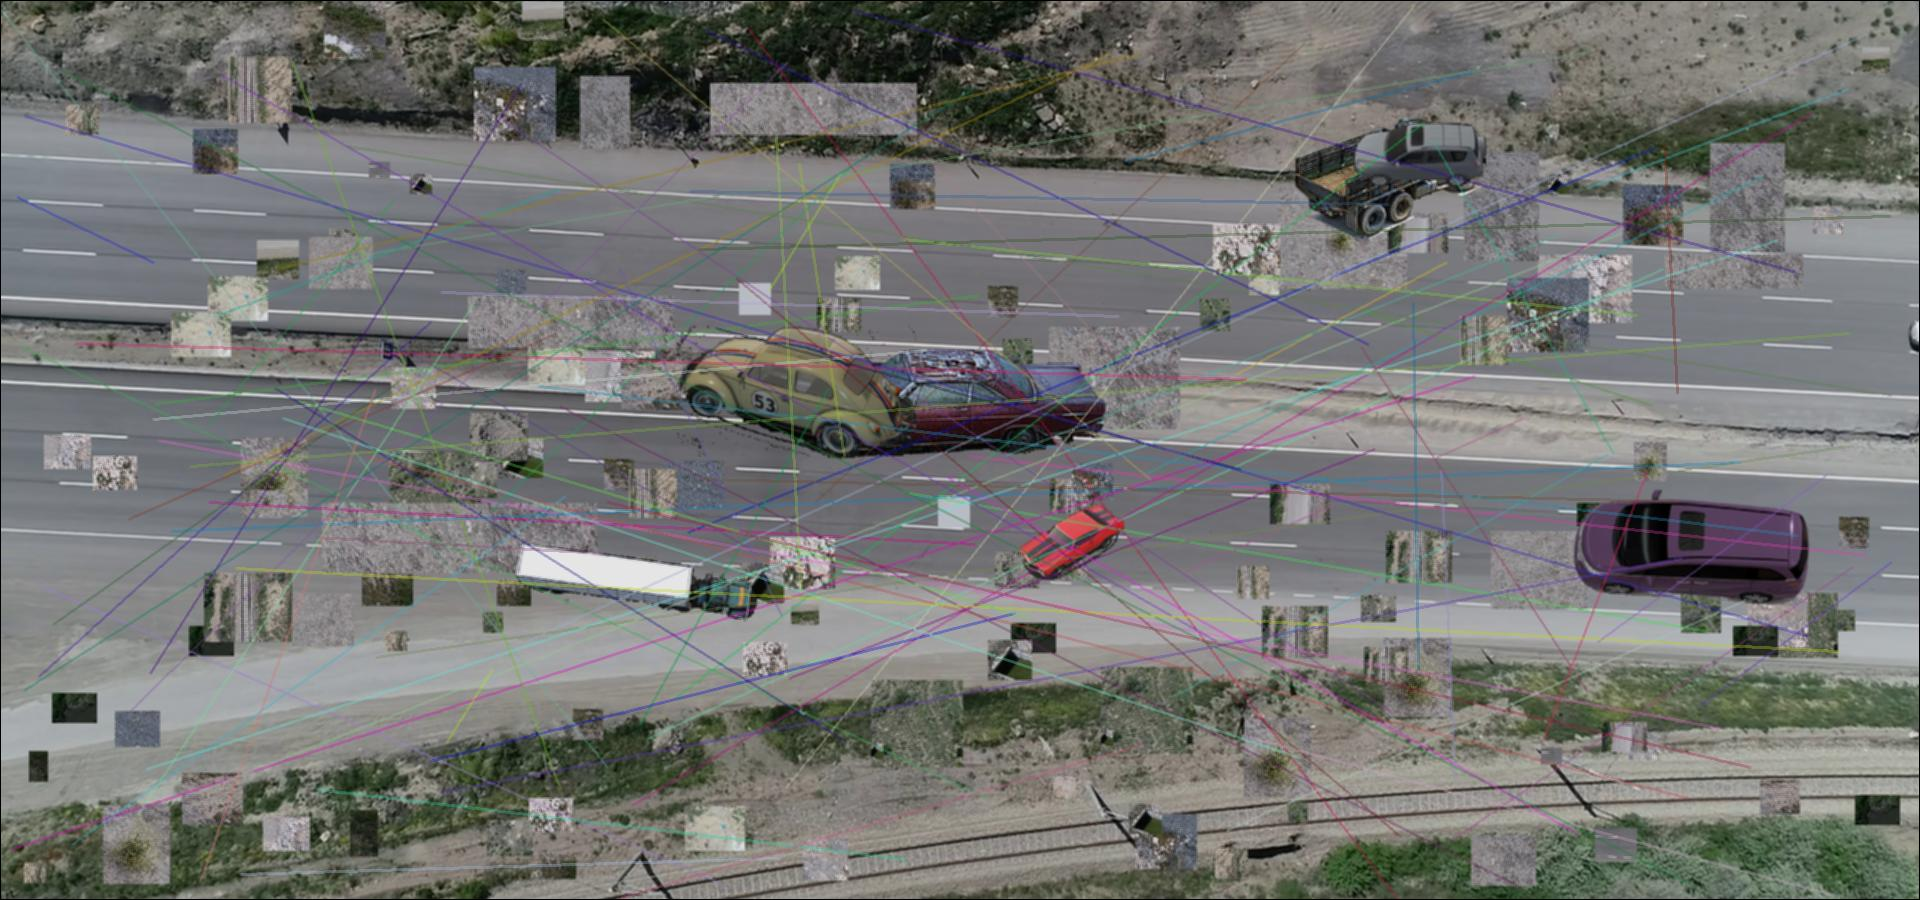arac: (779, 350, 1111, 462), (677, 326, 916, 456), (1572, 486, 1810, 606), (1289, 111, 1487, 238), (512, 538, 757, 622), (1351, 121, 1494, 190), (1020, 504, 1124, 580)
